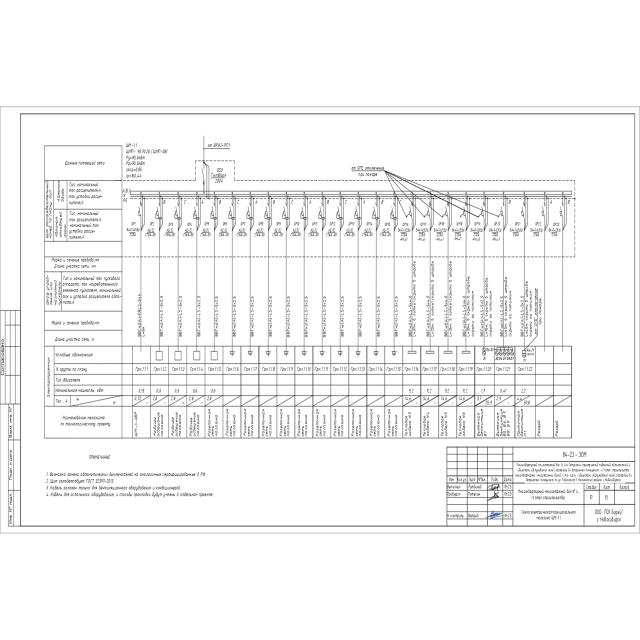-: (126, 149, 168, 155), (433, 227, 448, 242), (210, 172, 228, 184), (469, 227, 484, 241), (398, 227, 412, 242), (415, 227, 429, 242), (452, 227, 466, 242), (488, 228, 502, 242), (548, 227, 562, 238), (510, 227, 524, 238), (126, 227, 141, 237), (529, 227, 543, 237), (290, 228, 302, 238), (236, 228, 248, 238), (254, 228, 265, 238), (183, 228, 194, 238), (200, 228, 212, 237), (380, 228, 392, 237), (164, 228, 176, 237), (145, 228, 157, 237), (326, 228, 338, 237), (218, 228, 230, 237), (361, 228, 373, 237), (272, 228, 284, 237), (344, 228, 355, 237), (308, 228, 319, 237)
QF: (426, 205, 432, 217), (480, 205, 486, 217), (520, 206, 526, 218), (500, 205, 505, 219), (408, 206, 414, 217), (444, 205, 450, 216), (461, 206, 467, 217), (542, 203, 546, 219), (560, 205, 564, 219), (138, 205, 142, 218)
QFD: (173, 201, 182, 220), (209, 202, 218, 221), (228, 202, 237, 221), (263, 202, 272, 221), (281, 201, 290, 220), (316, 202, 325, 221), (335, 202, 344, 221), (389, 201, 398, 220), (154, 202, 163, 220), (192, 202, 200, 221), (245, 202, 253, 221), (299, 202, 307, 221), (372, 201, 380, 220), (354, 202, 362, 220)
QS: (201, 166, 206, 186)
